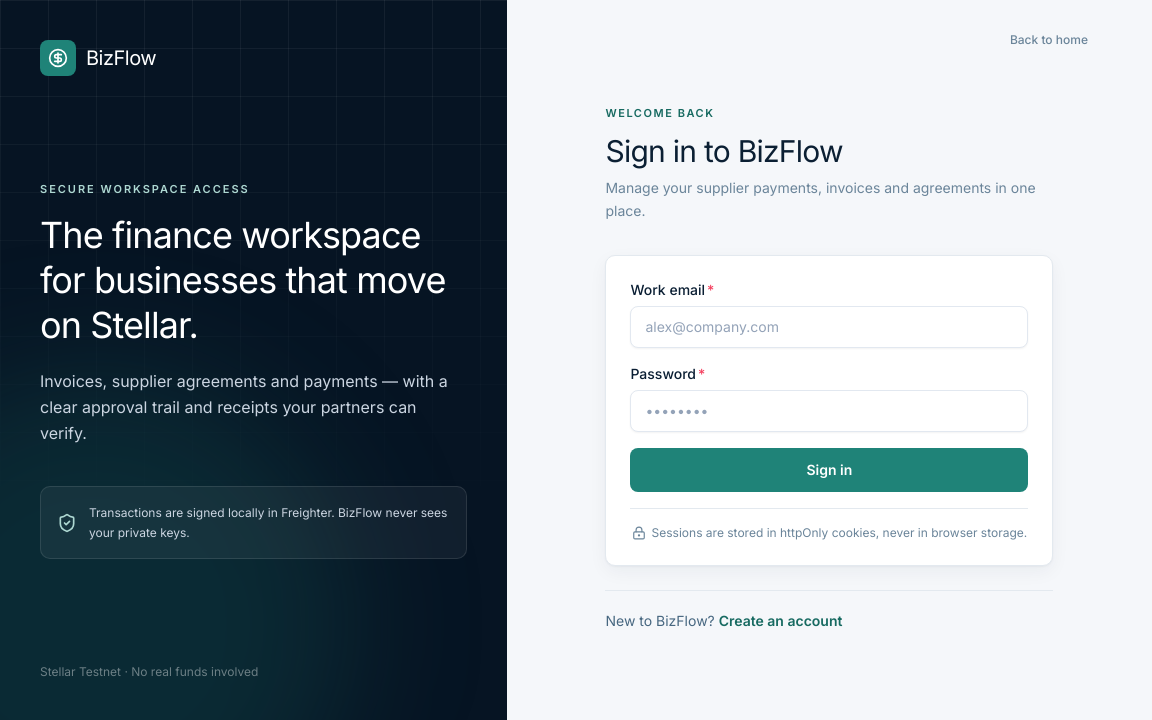
Scenario: LoginPage › logs in, refreshes the session and navigates to the dashboard
Type "alex@acme.com" into the field labelled "Work email*". click: (829, 327)
box: [630,306,1028,348]
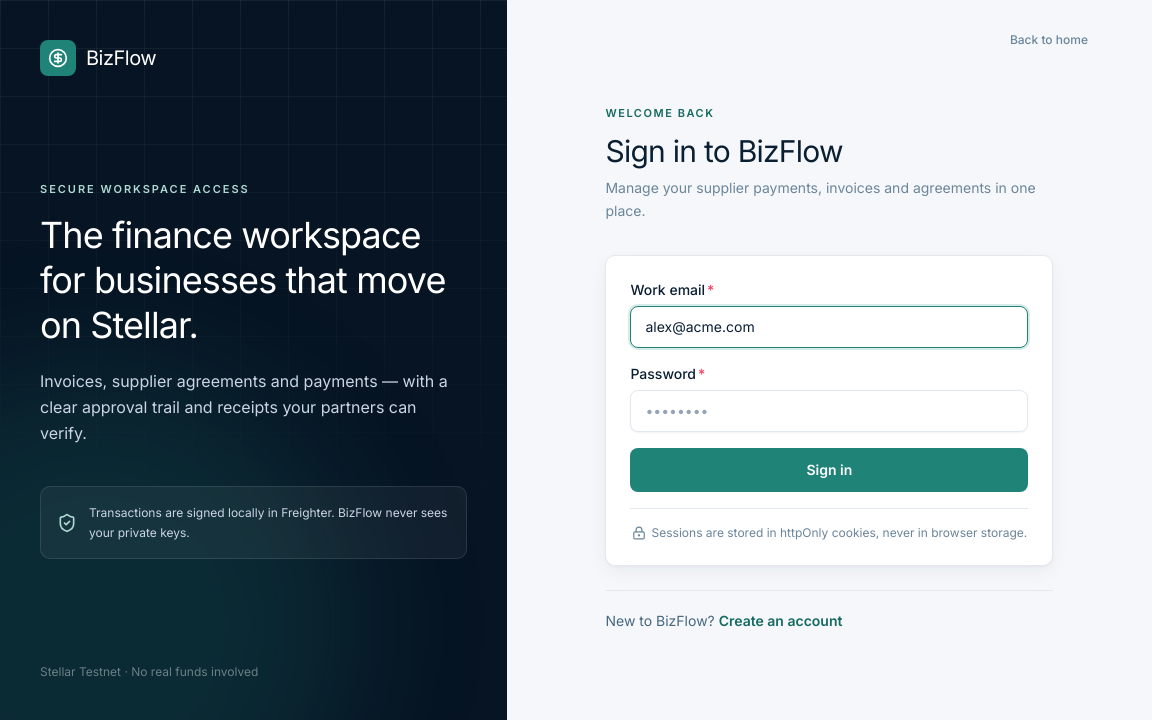
Type "secret123" into the password field labelled "Password*". click: (829, 411)
box: [630,390,1028,432]
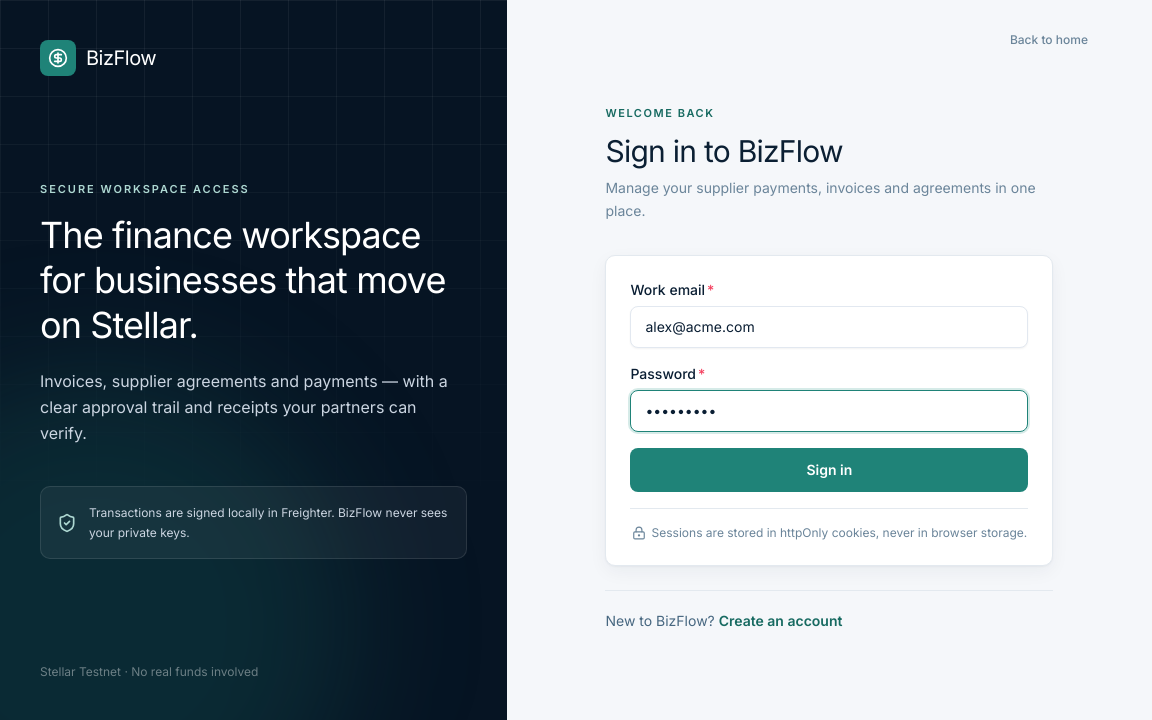
Click the button "Sign in". click: (829, 470)
box: [630,448,1028,492]
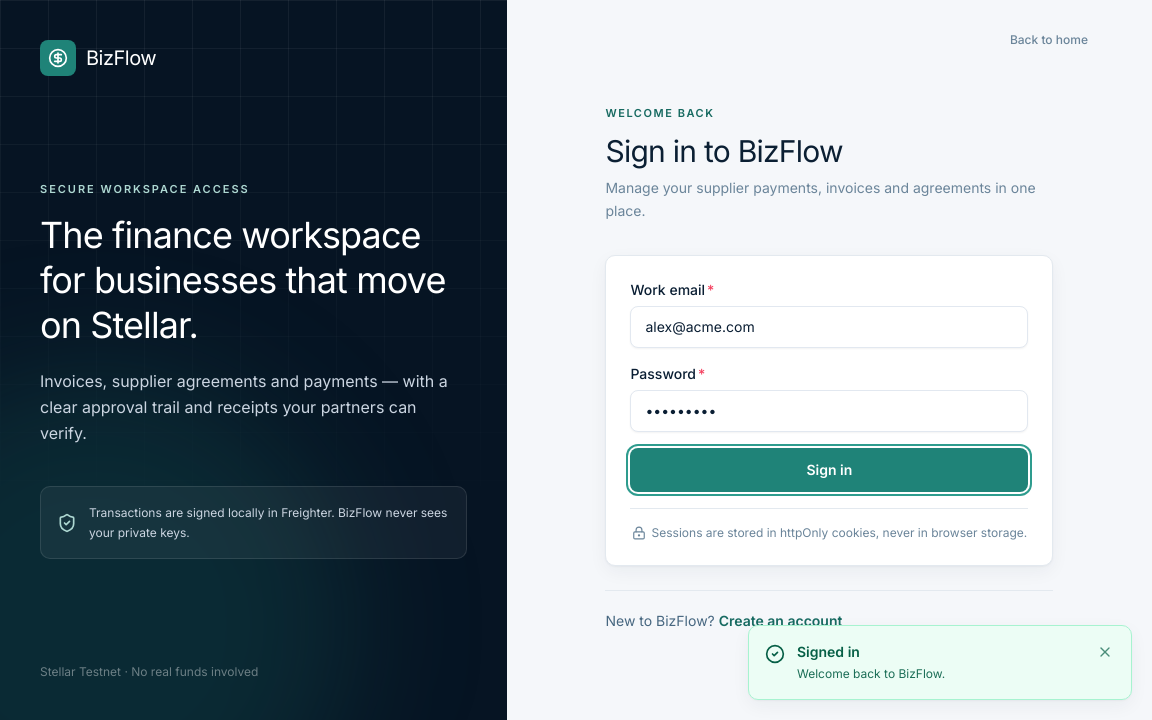
Expected: the text "Signed in" is shown, [797,642,860,660]
